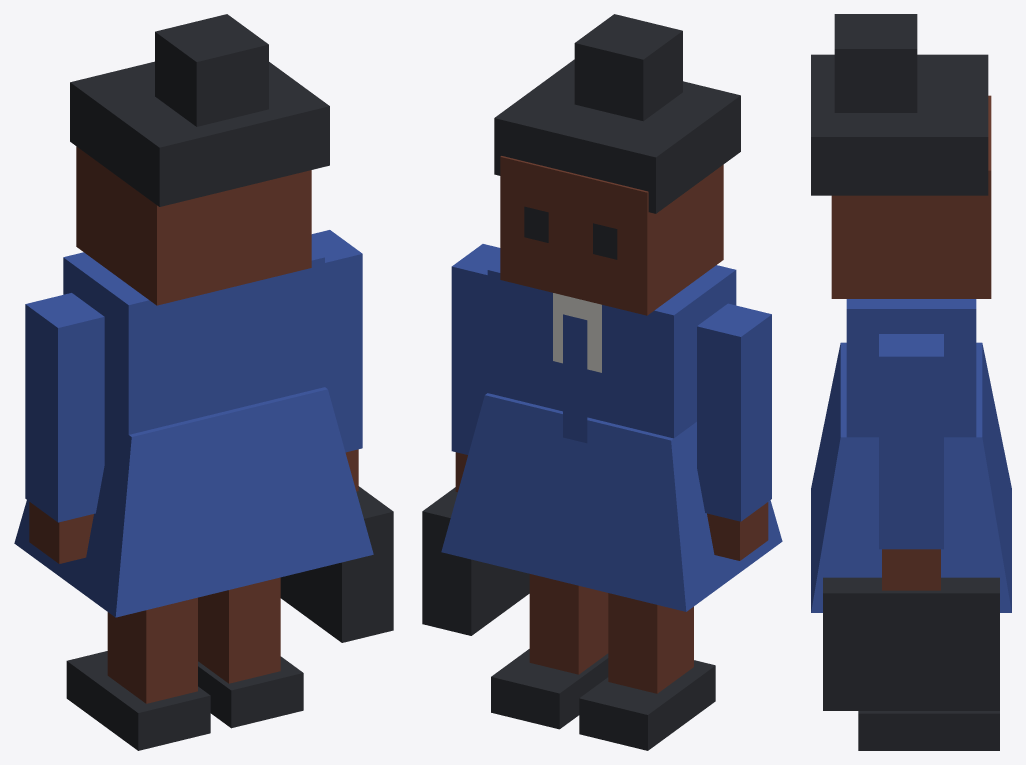
Rendered from H_Businesswoman.fbx.
3 renders of one model, left to right at view 1: azimuth 30°, elevation 25°; view 2: azimuth 150°, elevation 25°; view 3: azimuth 270°, elevation 25°, orthographic. The views are drawn at different scales.
Visible parts, largest first — view 1: H_Businesswoman; view 2: H_Businesswoman; view 3: H_Businesswoman.
Part boxes in pixels (x1,y1,x2,y2): H_Businesswoman: (14,14,393,750); H_Businesswoman: (422,14,782,750); H_Businesswoman: (811,14,1011,750).
Size of the model in its own units: 0.595 by 1.27 by 0.34.
